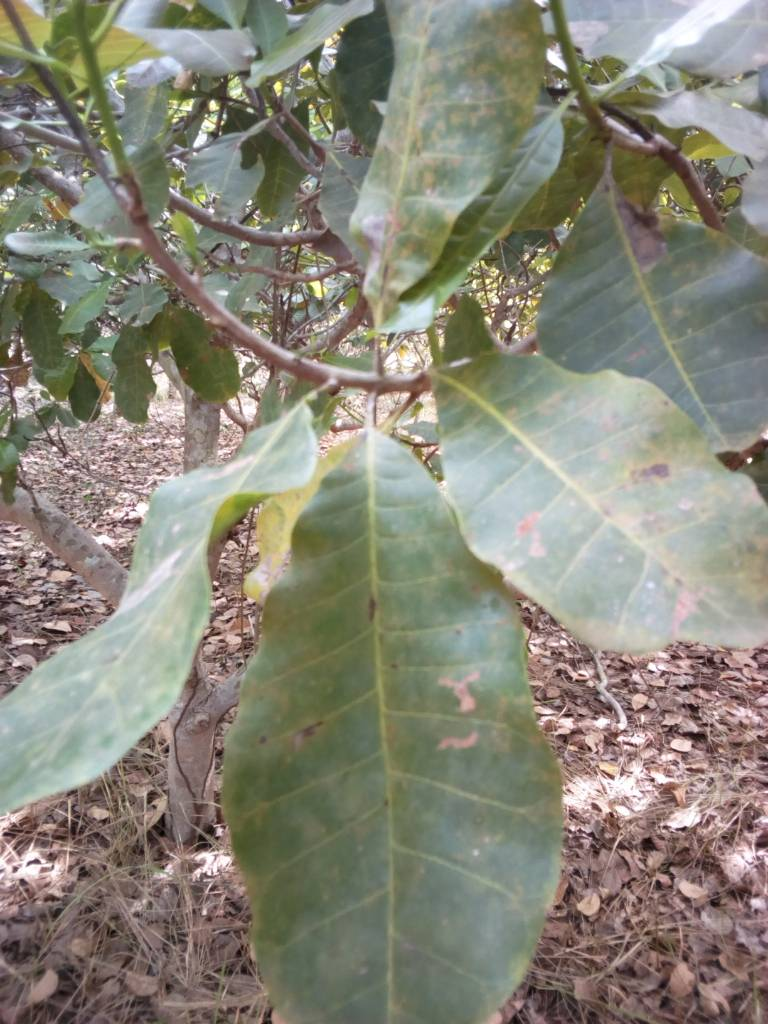Alternariose: (455, 366, 763, 652), (363, 1, 529, 317)
